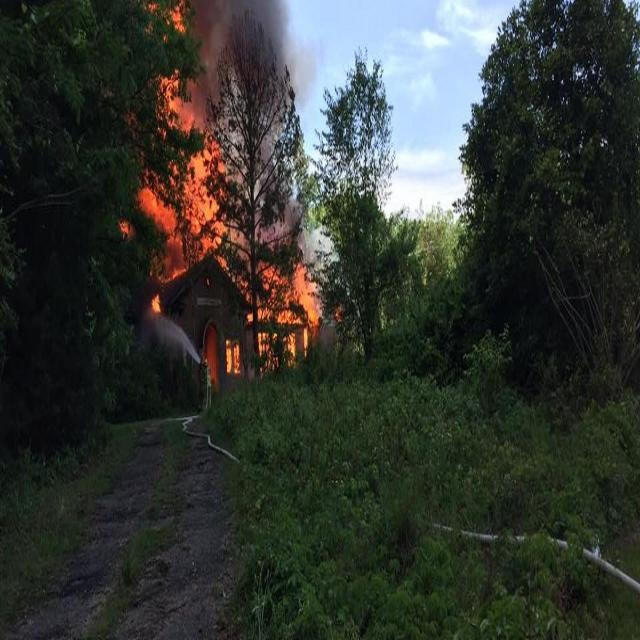Fire: (142, 6, 240, 278), (254, 264, 320, 364), (224, 339, 242, 374), (150, 294, 164, 317)
